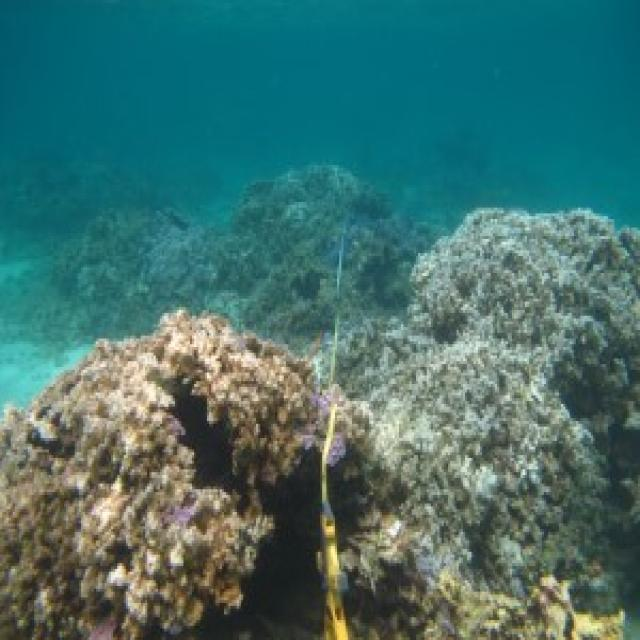Bleached: (383, 339, 598, 584), (411, 209, 639, 394)
Healthy: (1, 325, 272, 638), (161, 311, 317, 485)
